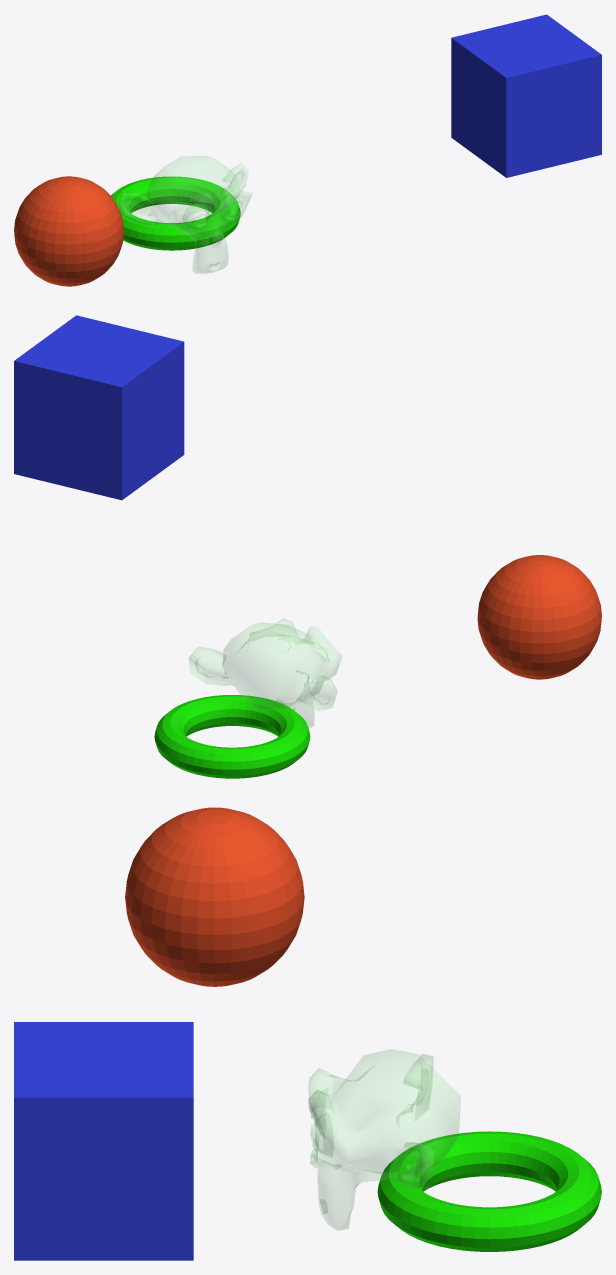
Rendered from testSSR.gltf.
3 views of the same model, one above another, from view 1: azimuth 30°, elevation 25°; view 2: azimuth 150°, elevation 25°; view 3: azimuth 270°, elevation 25° (orthographic). The views are drawn at different scales.
Visible parts, largest first — view 1: Cube, Sphere, Suzanne, Torus; view 2: Cube, Sphere, Suzanne, Torus; view 3: Cube, Sphere, Torus, Suzanne.
Part boxes in pixels (x1,y1,x2,y2): Cube: (451,14,601,177); Sphere: (14,176,123,286); Suzanne: (117,156,252,273); Torus: (111,176,240,250); Cube: (14,315,184,500); Sphere: (477,555,601,679); Suzanne: (189,618,341,727); Torus: (154,695,310,778); Cube: (14,1022,193,1260); Sphere: (125,807,304,986); Torus: (377,1131,601,1251); Suzanne: (308,1049,460,1230).
Size of the model in its own units: 10.87 by 4.38 by 6.55.
